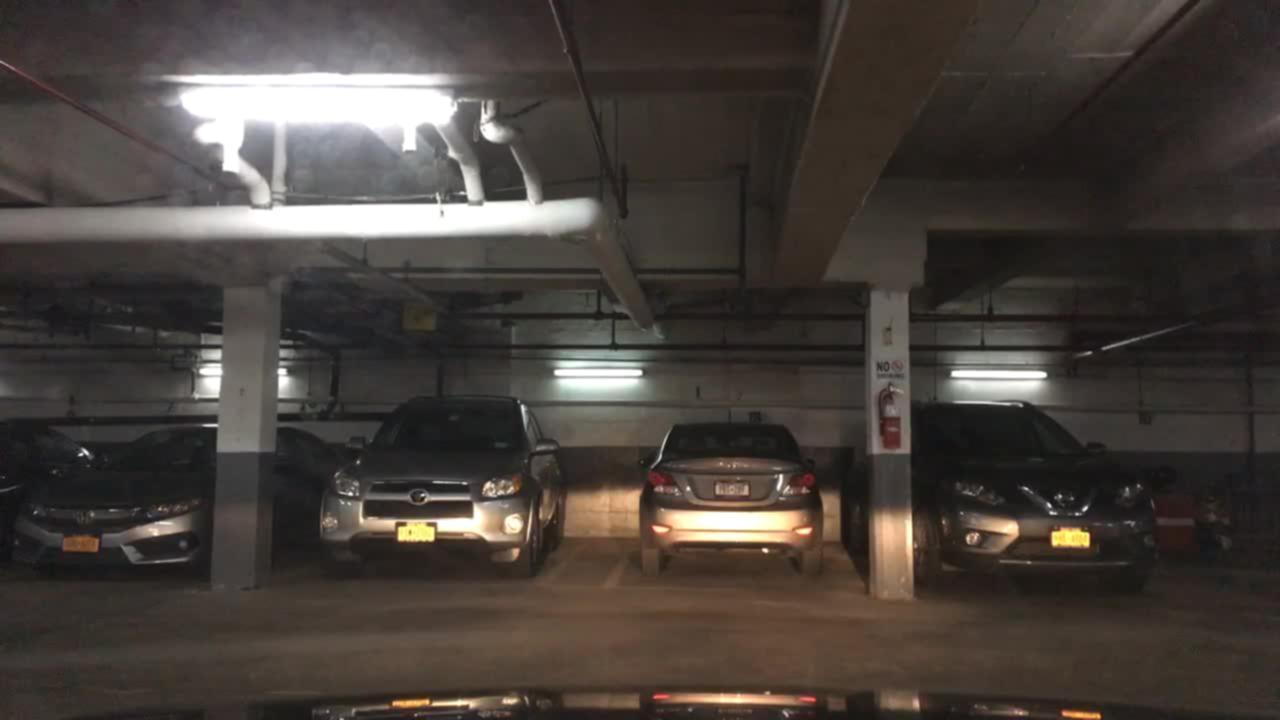Honda: (69, 506, 102, 531)
Nissan: (1046, 481, 1083, 512)
Toyota: (402, 487, 432, 509)
